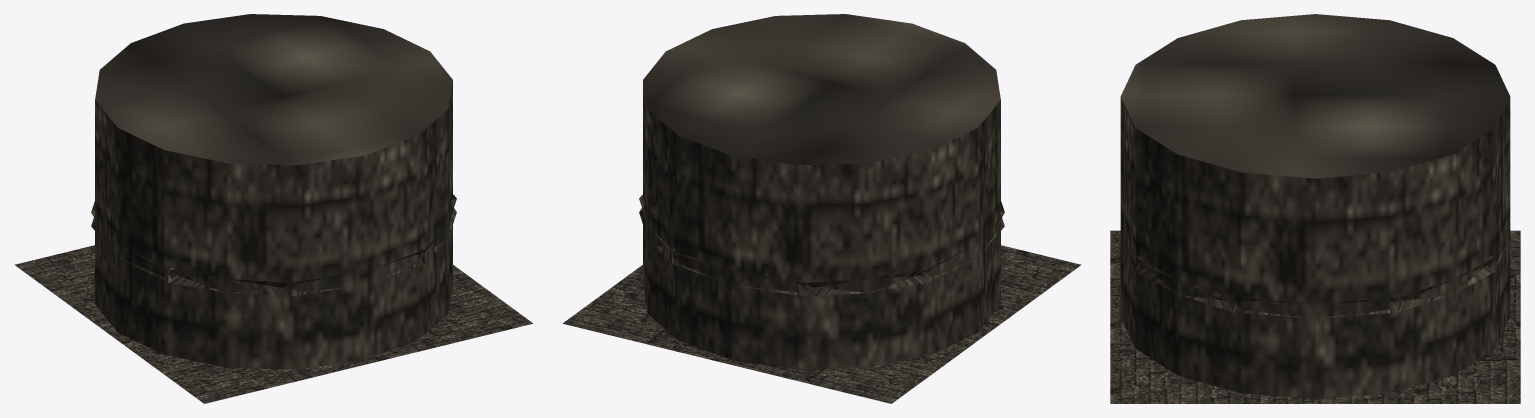
File: SM_Dungeon_CeilingHole_Small.fbx
The picture shows the model from 3 angles, left to right: view 1: azimuth 30°, elevation 25°; view 2: azimuth 150°, elevation 25°; view 3: azimuth 270°, elevation 25°; orthographic projection. The views are drawn at different scales.
Visible parts, largest first — view 1: SM_Dungeon_CeilingHole.001; view 2: SM_Dungeon_CeilingHole.001; view 3: SM_Dungeon_CeilingHole.001.
Part boxes in pixels (x1,y1,x2,y2): SM_Dungeon_CeilingHole.001: (14, 14, 532, 403); SM_Dungeon_CeilingHole.001: (563, 14, 1081, 403); SM_Dungeon_CeilingHole.001: (1110, 14, 1520, 403).
Bounding box in the file's own units: 100 × 59.4 × 100.
